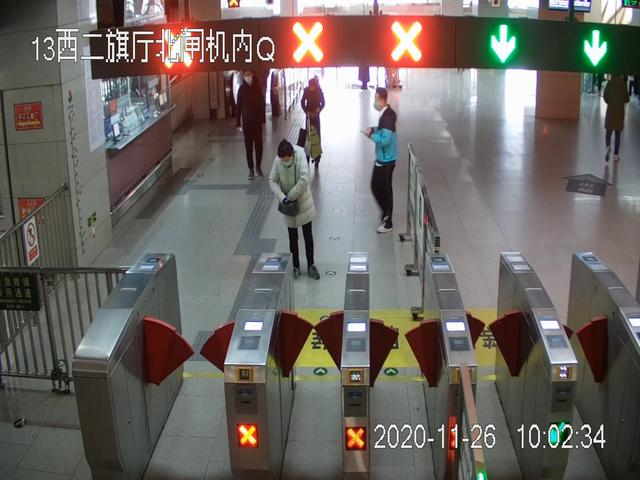person: (269, 139, 323, 281), (363, 87, 397, 232), (237, 69, 266, 180), (299, 78, 326, 166), (606, 75, 629, 165)
